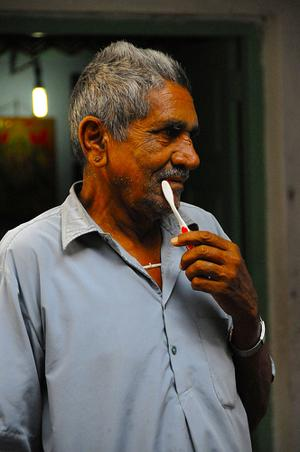person: (1, 44, 274, 450)
